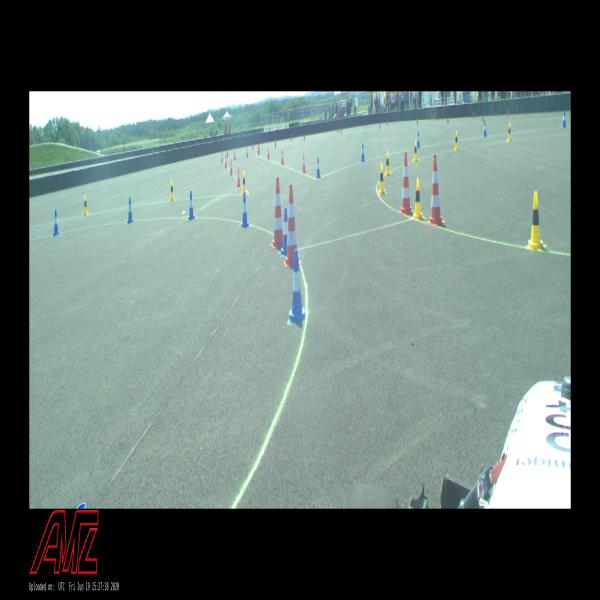blue_cone: (288, 250, 306, 322), (281, 208, 288, 256), (241, 193, 249, 228), (188, 191, 195, 220), (127, 197, 134, 223), (53, 210, 60, 235), (316, 157, 321, 178), (361, 144, 365, 161), (562, 111, 566, 127), (416, 132, 420, 147), (483, 121, 487, 136)
large_orange_cone: (284, 184, 301, 267), (427, 154, 445, 225), (399, 152, 414, 215), (271, 178, 283, 248)
orange_cone: (302, 154, 306, 173), (237, 167, 241, 186), (224, 155, 228, 168), (230, 160, 233, 175), (281, 150, 284, 164), (267, 147, 270, 159), (246, 147, 249, 157), (221, 152, 224, 162), (234, 148, 236, 160), (258, 146, 260, 156)
yellow_cone: (527, 192, 544, 250), (412, 178, 422, 220), (378, 163, 386, 195), (385, 151, 390, 176), (242, 171, 247, 194), (170, 180, 175, 201), (413, 142, 418, 162), (84, 195, 89, 215), (454, 132, 459, 150), (507, 122, 511, 142)
